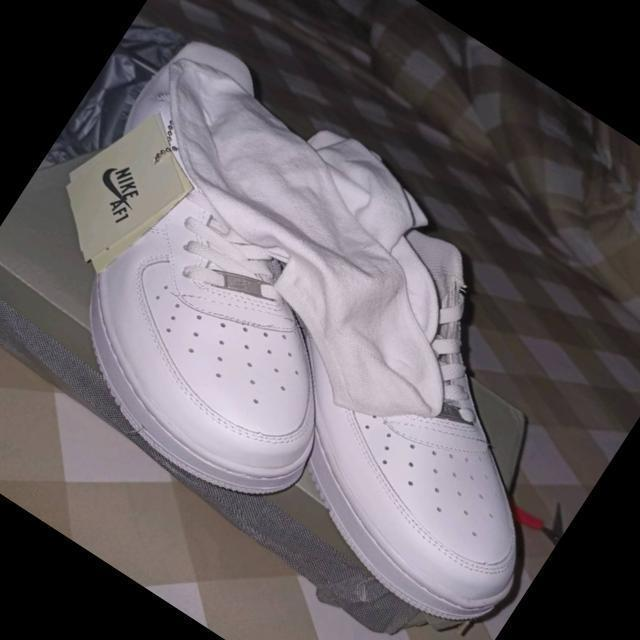nike fake air force: (122, 85, 640, 640), (0, 17, 475, 529)
